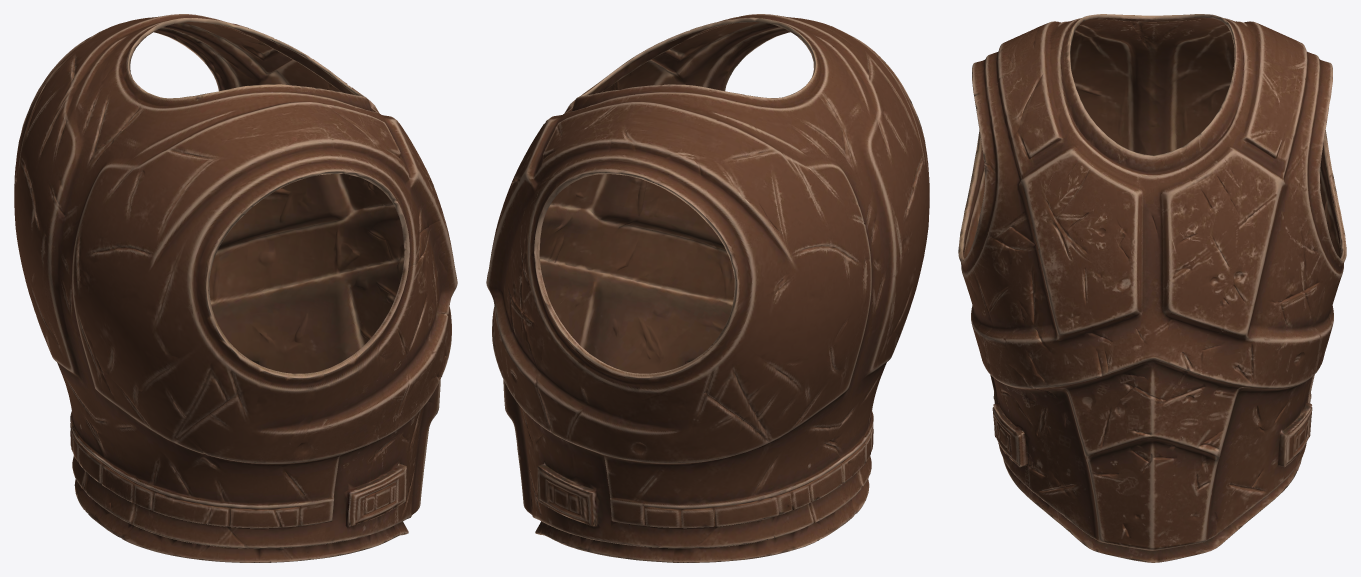
The model's file is bodyarmor01.glb.
The picture shows the model from 3 angles, left to right: view 1: azimuth 30°, elevation 25°; view 2: azimuth 150°, elevation 25°; view 3: azimuth 270°, elevation 25°; orthographic projection. The views are drawn at different scales.
Visible parts, largest first — view 1: tripo_node_37ad203b-b0ee-4c99-91cd-7a79a35eb406; view 2: tripo_node_37ad203b-b0ee-4c99-91cd-7a79a35eb406; view 3: tripo_node_37ad203b-b0ee-4c99-91cd-7a79a35eb406.
Boxes of the visible parts, x1,y1,x2,y2 form: tripo_node_37ad203b-b0ee-4c99-91cd-7a79a35eb406: (14,14,457,562); tripo_node_37ad203b-b0ee-4c99-91cd-7a79a35eb406: (486,14,929,562); tripo_node_37ad203b-b0ee-4c99-91cd-7a79a35eb406: (958,14,1346,562).
Size of the model in its own units: 0.7618 by 0.9995 by 0.7709.
Materials: 1 (1 with a texture image).
